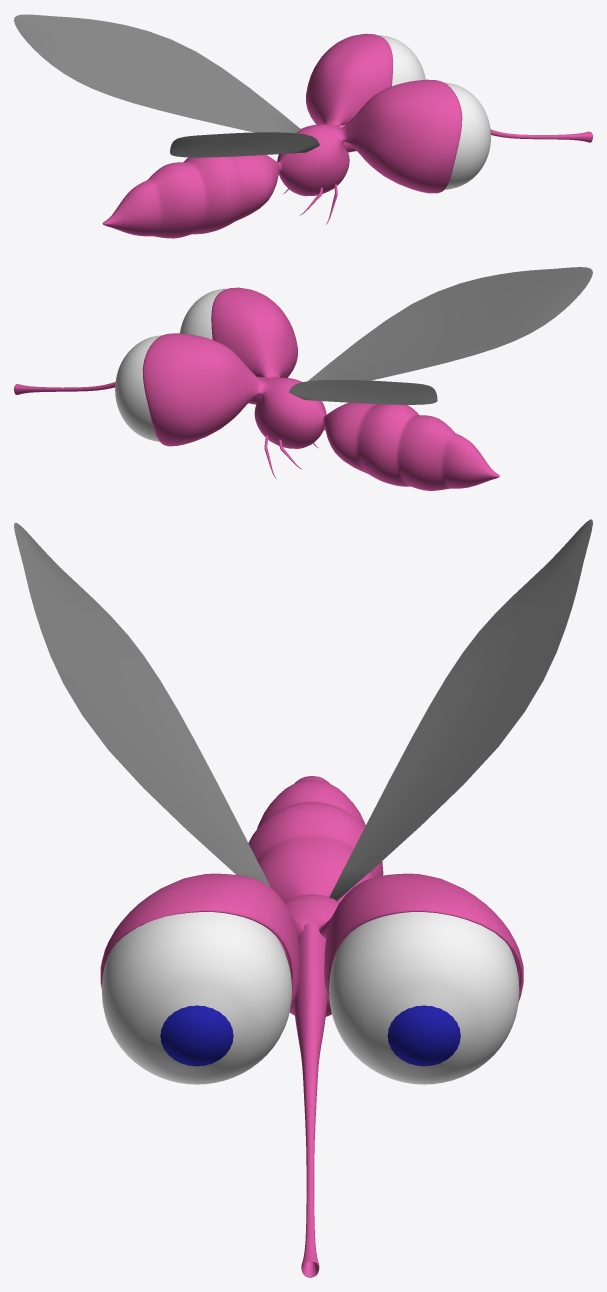
File: Mosquito_Color.dae
3 renders of one model, top to bottom at view 1: azimuth 30°, elevation 25°; view 2: azimuth 150°, elevation 25°; view 3: azimuth 270°, elevation 25°, orthographic. The views are drawn at different scales.
Visible parts, largest first — view 1: mosquitoMesh; view 2: mosquitoMesh; view 3: mosquitoMesh.
Part boxes in pixels (x1,y1,x2,y2): mosquitoMesh: (14,14,592,238); mosquitoMesh: (14,267,592,490); mosquitoMesh: (14,519,592,1277).
Bounding box in the file's own units: 9.63 × 3.47 × 5.48.
